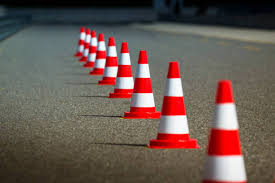obstacle: (208, 76, 247, 183), (156, 54, 198, 150), (132, 46, 160, 121), (117, 38, 133, 98), (106, 36, 120, 89), (88, 27, 99, 72), (96, 30, 107, 74), (84, 28, 93, 65), (78, 27, 86, 60)
